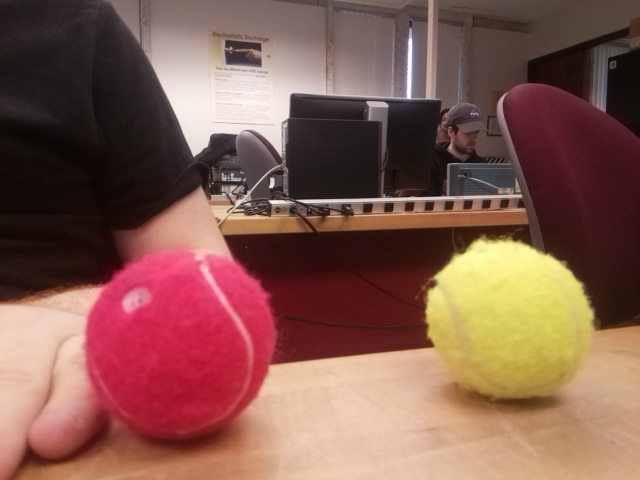red-ball: (82, 247, 278, 447)
yellow-ball: (422, 234, 596, 405)
